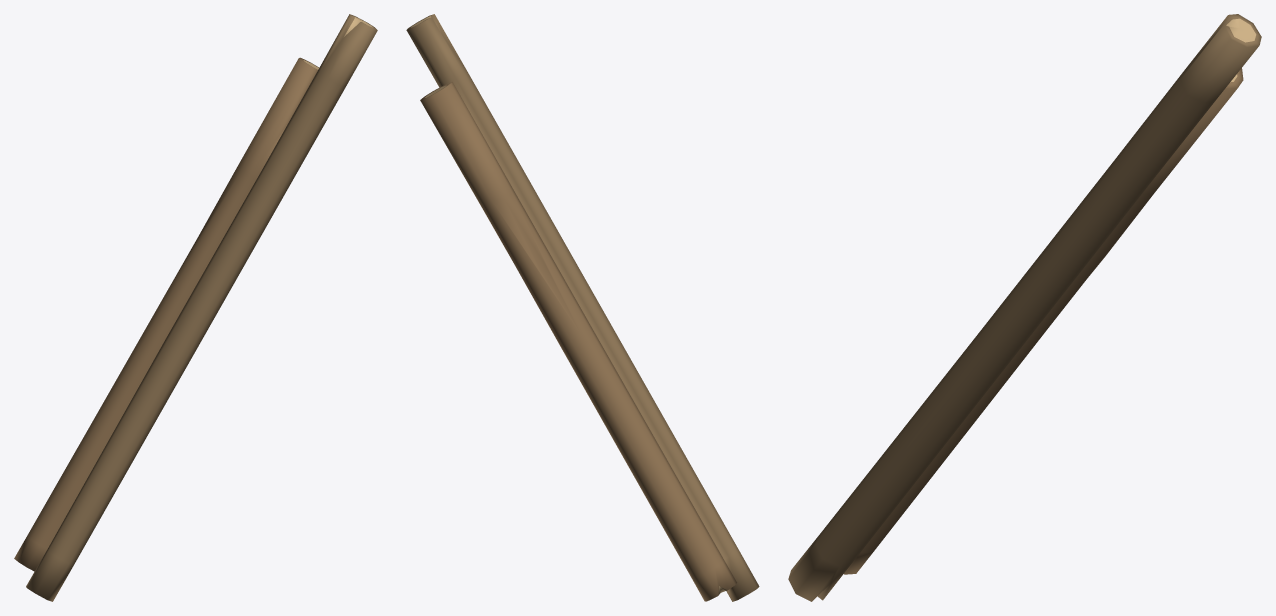
The model's file is rpgpp_ag_roof_01_6x5x3_end_01a_half.fbx.
The picture shows the model from 3 angles, left to right: view 1: azimuth 30°, elevation 25°; view 2: azimuth 150°, elevation 25°; view 3: azimuth 330°, elevation 25°; orthographic projection. The views are drawn at different scales.
Parts seen in each view (by area): view 1: rpgpp_ag_roof_01_6x5x3_end_01a_half; view 2: rpgpp_ag_roof_01_6x5x3_end_01a_half; view 3: rpgpp_ag_roof_01_6x5x3_end_01a_half.
Part boxes in pixels (x1,y1,x2,y2): rpgpp_ag_roof_01_6x5x3_end_01a_half: [14, 14, 377, 601]; rpgpp_ag_roof_01_6x5x3_end_01a_half: [406, 14, 759, 601]; rpgpp_ag_roof_01_6x5x3_end_01a_half: [788, 14, 1261, 601].
Size of the model in its own units: 4.49 by 6.27 by 0.801.
